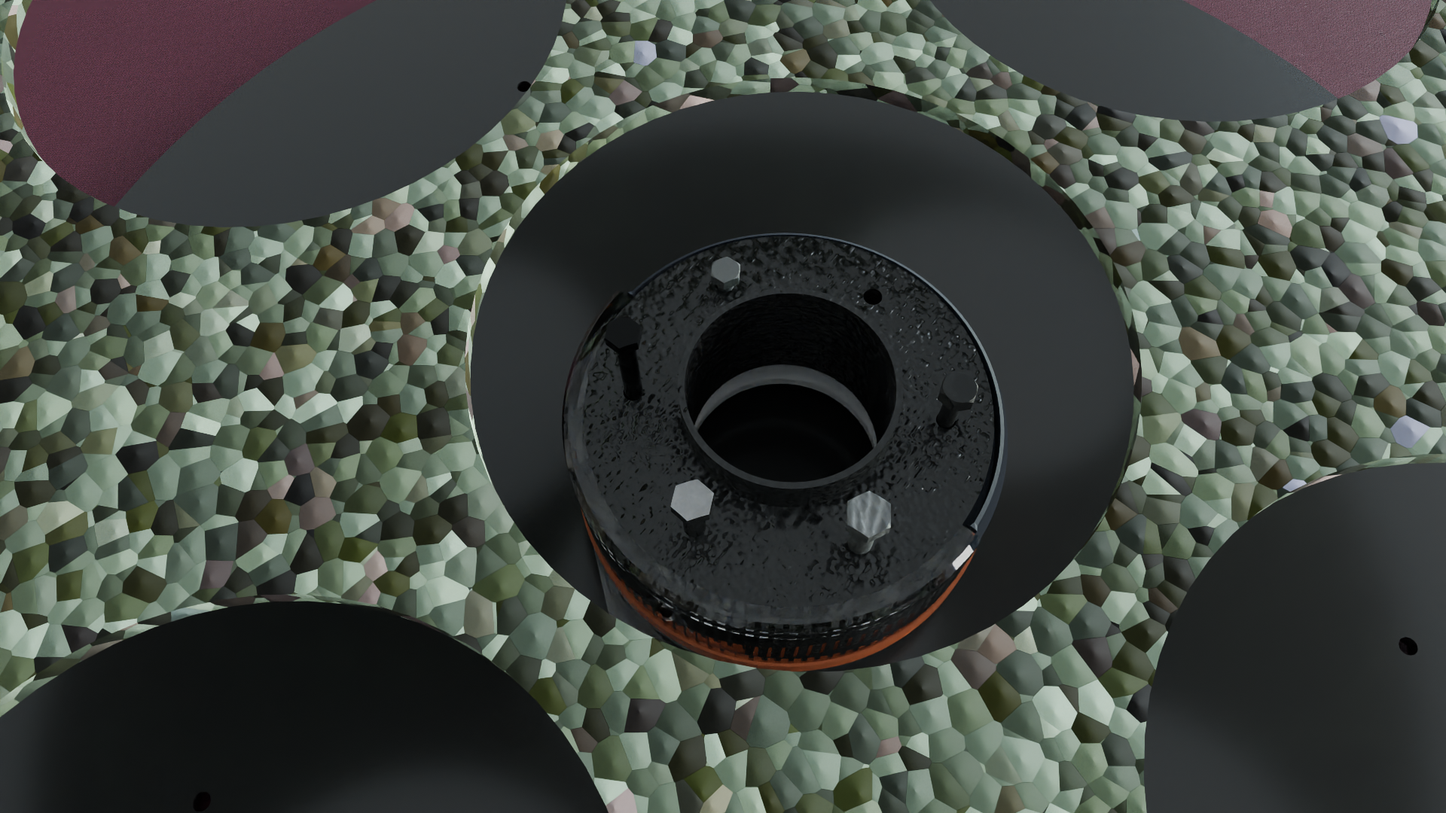bolt: (847, 491, 891, 538), (670, 480, 714, 521), (940, 372, 978, 406), (605, 316, 641, 349), (711, 257, 740, 284)
